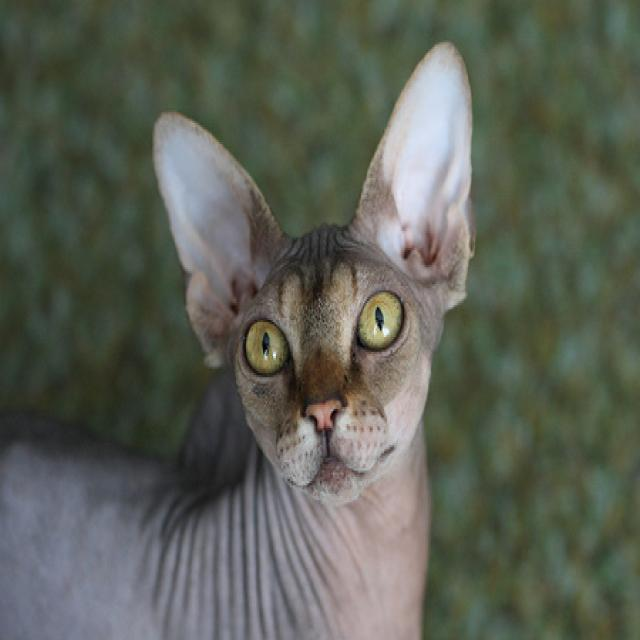Sphynx: (0, 36, 476, 640)
